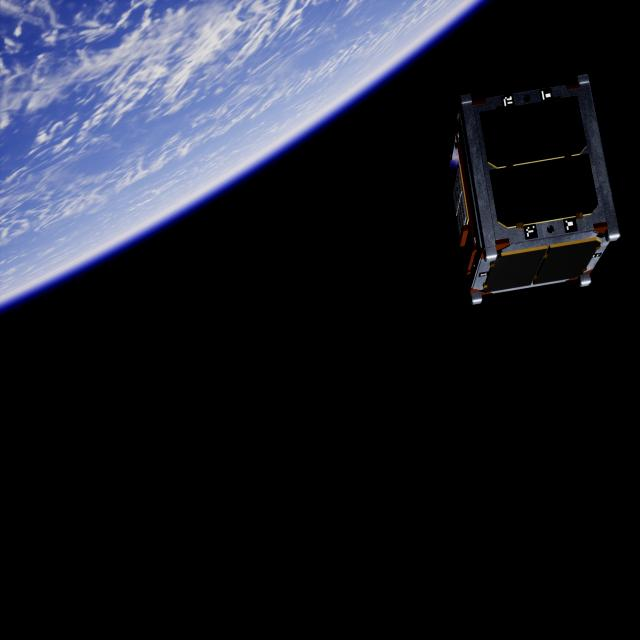medium_debris: (447, 67, 626, 314)
